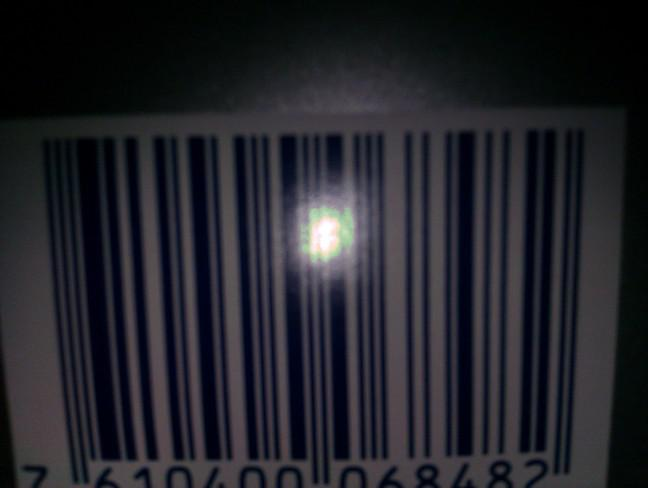Barkod: (5, 114, 615, 481)
